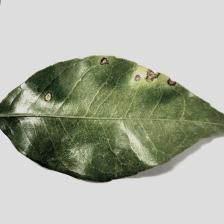canker: (86, 52, 187, 104)
